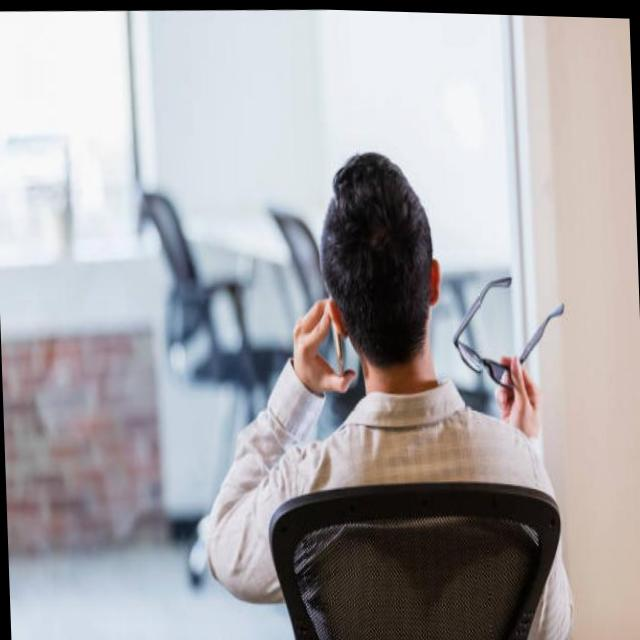no helmet: (299, 134, 447, 395)
